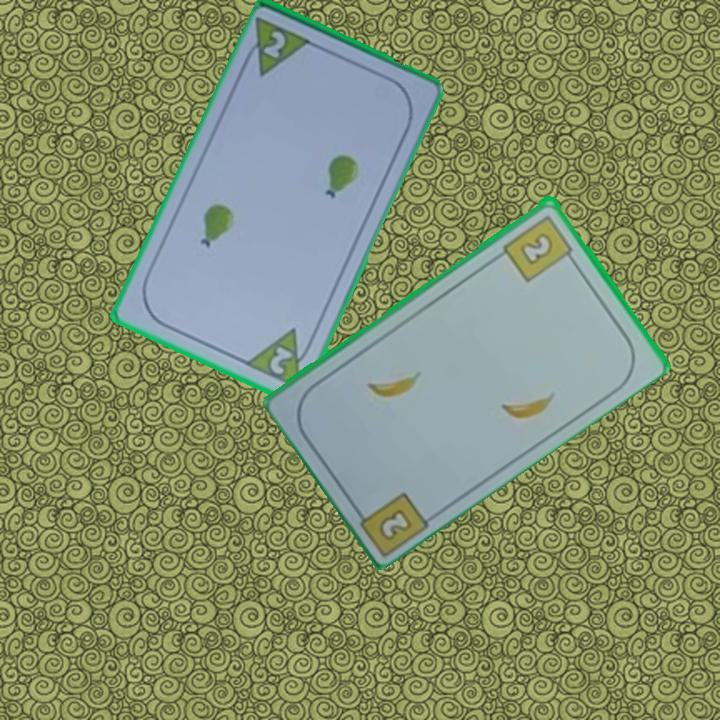2b: (499, 211, 578, 285), (378, 504, 415, 540)
2p: (266, 343, 297, 379), (259, 27, 289, 62)
